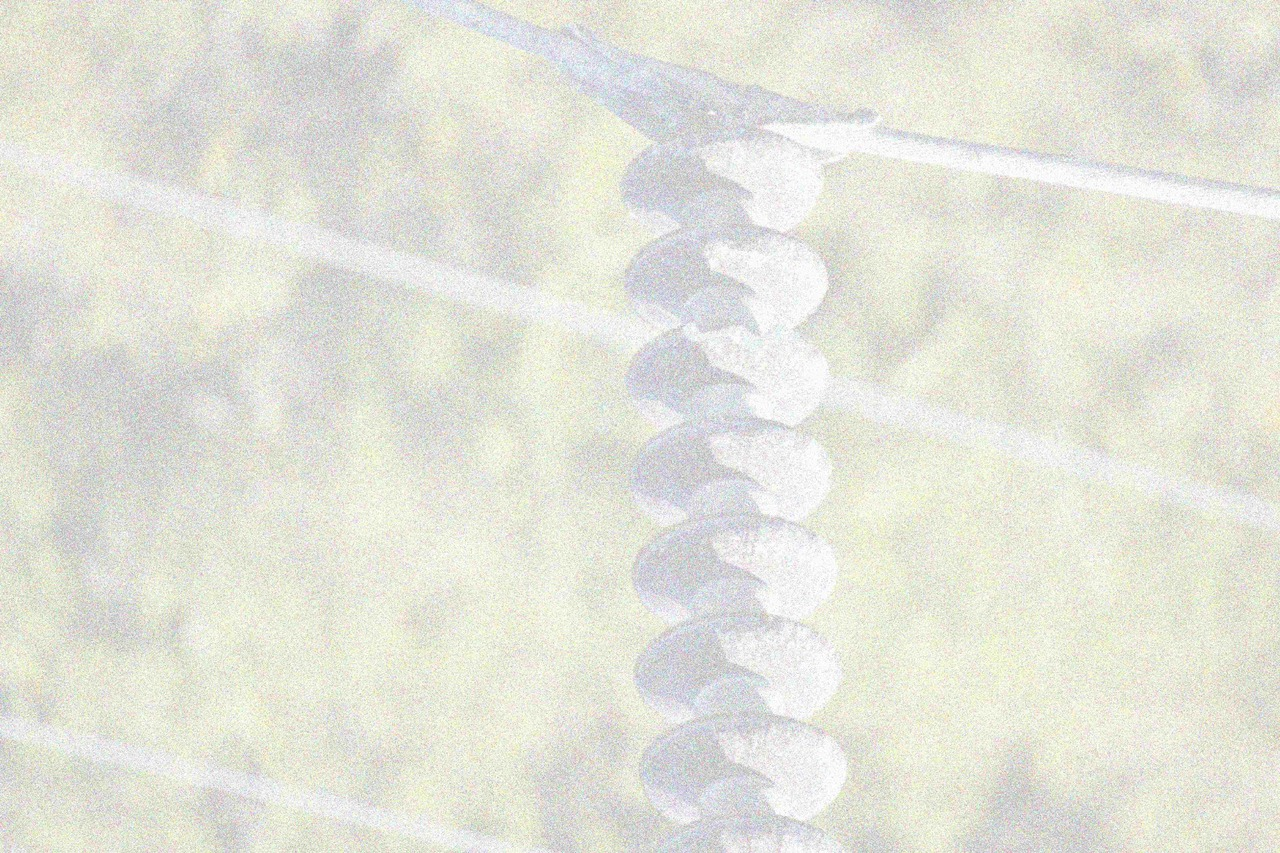Broken: (624, 320, 835, 425)
No issues: (628, 611, 845, 721), (624, 419, 840, 529), (633, 714, 849, 824), (626, 509, 842, 618), (616, 126, 825, 235), (620, 226, 827, 322)
String: (608, 114, 866, 853)
